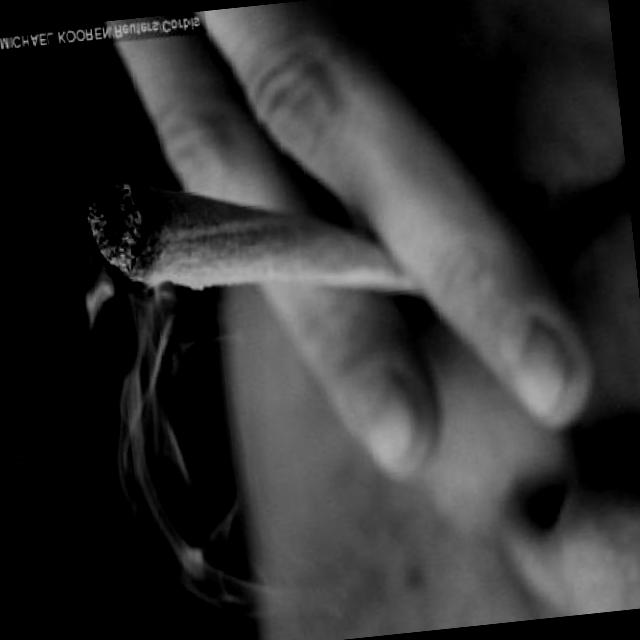cigarette: (84, 145, 440, 337)
